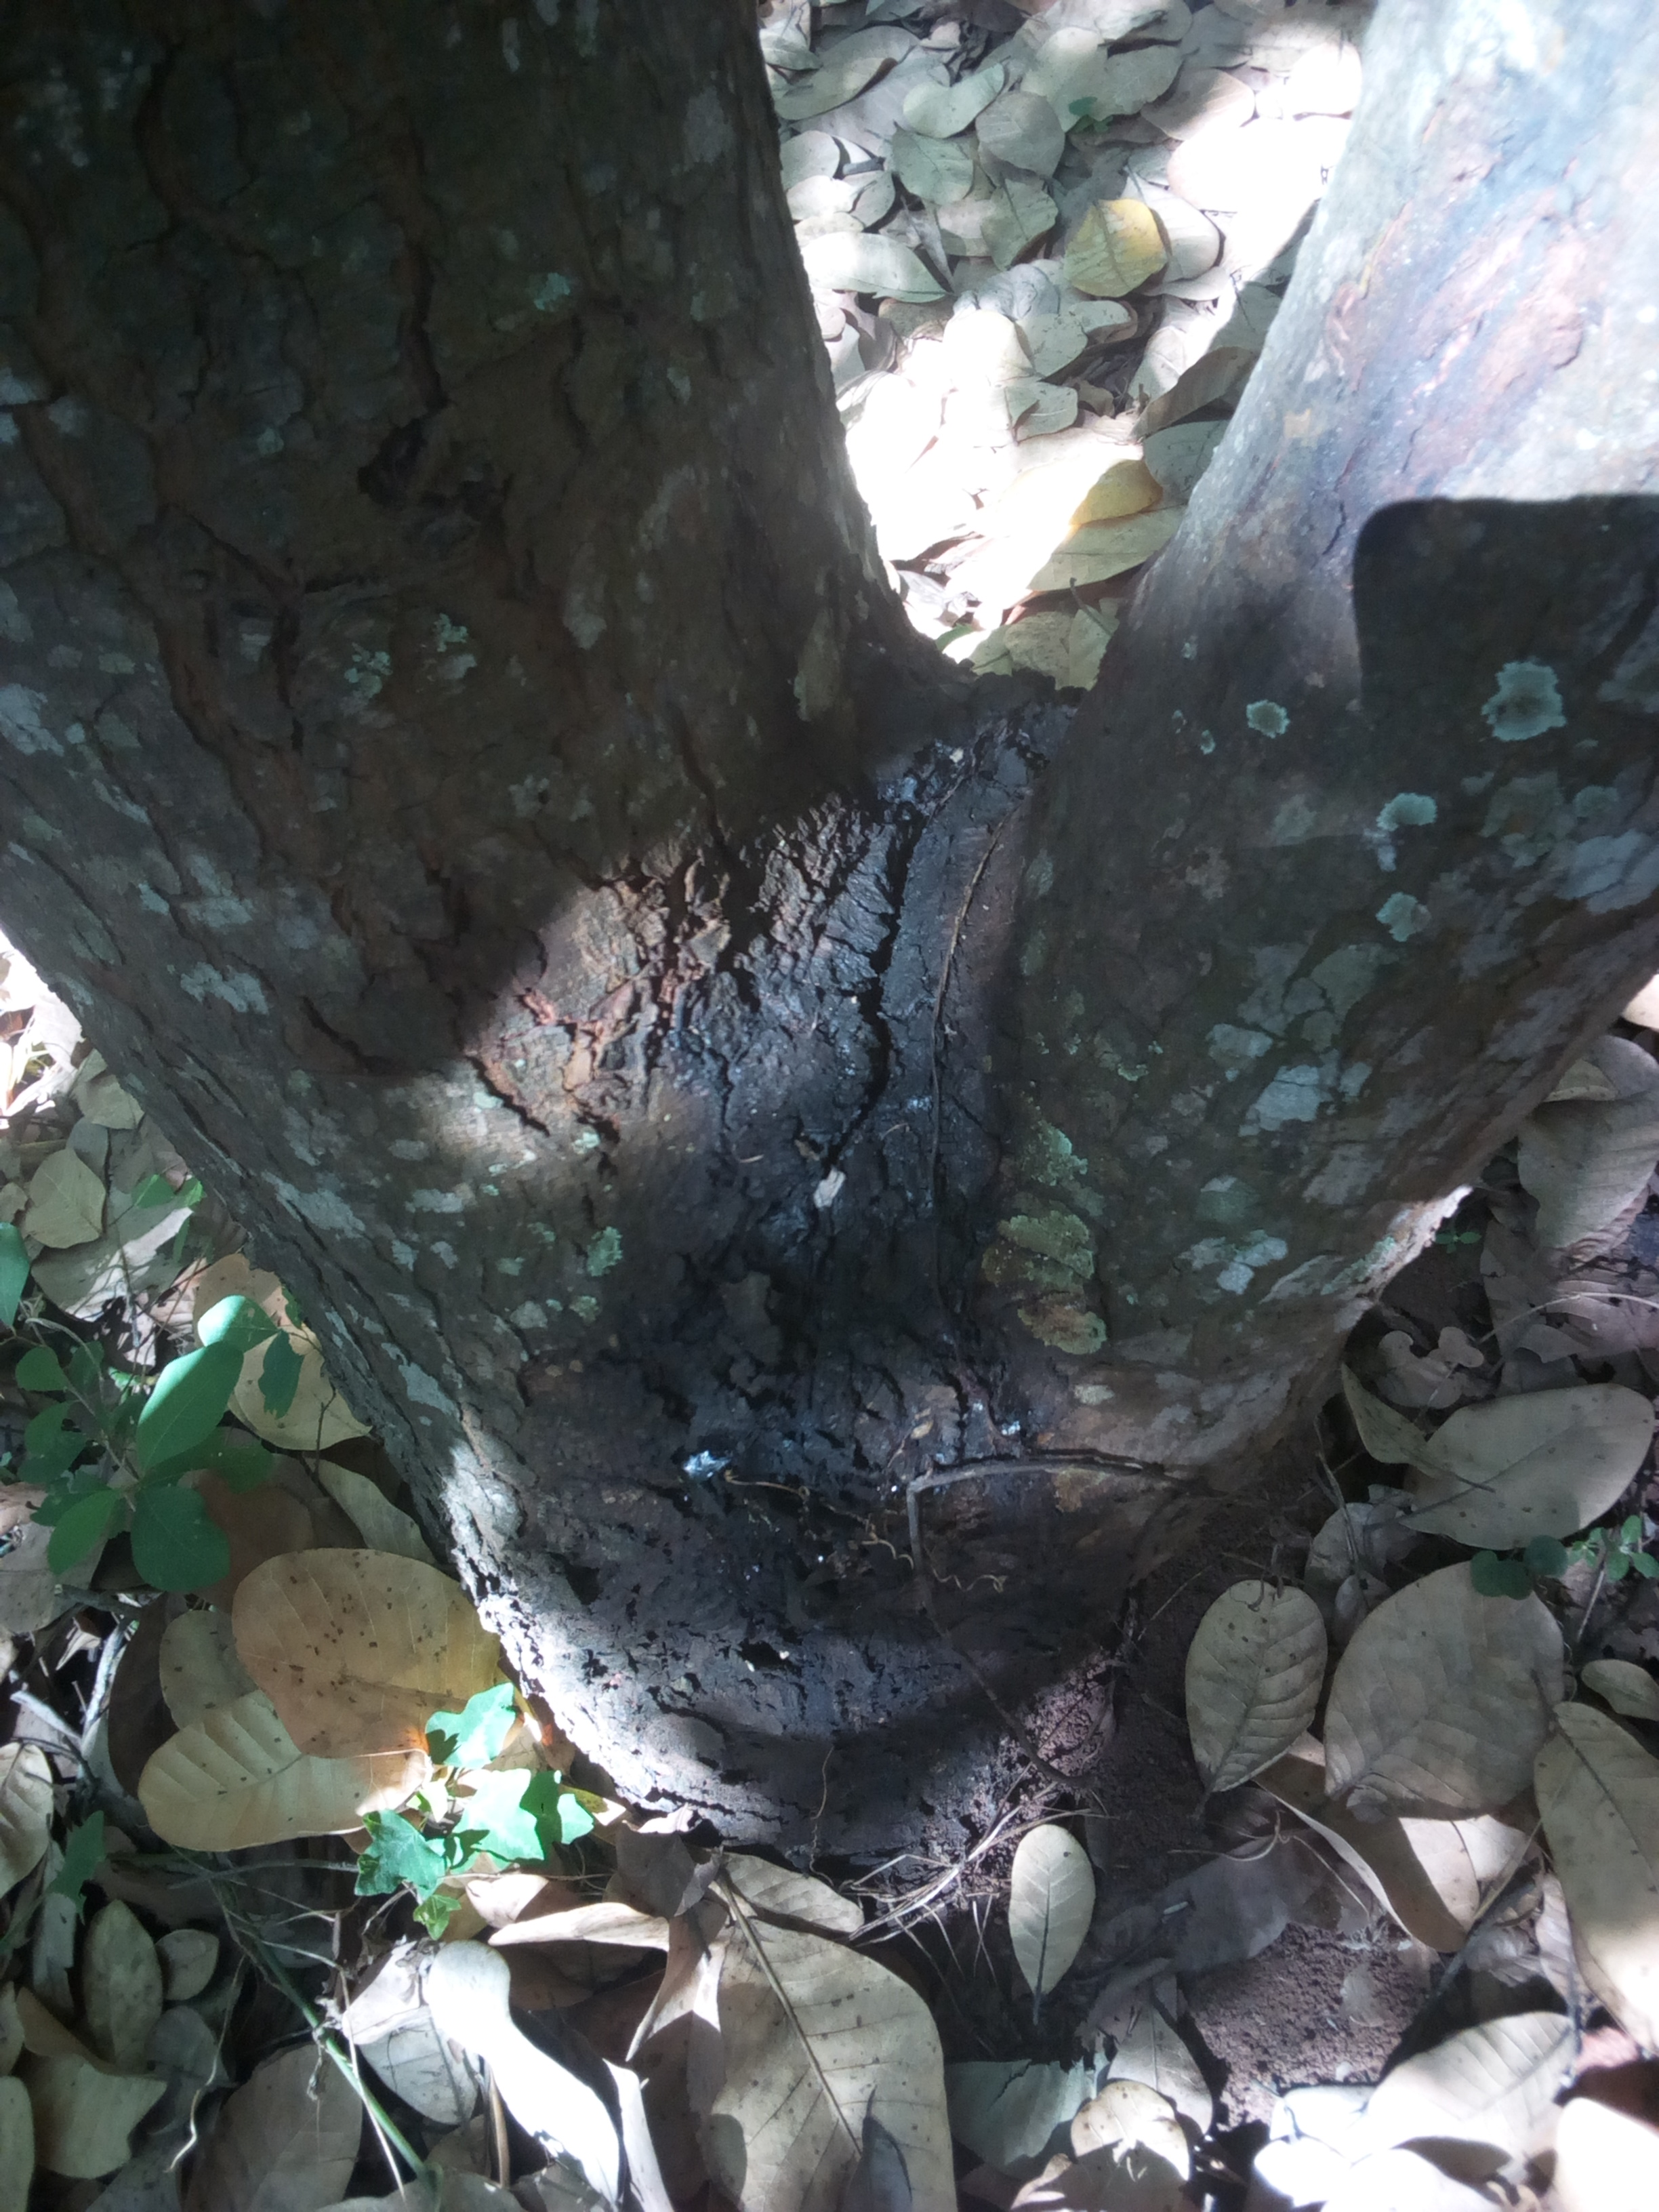Gommose: (568, 744, 1084, 1770)
